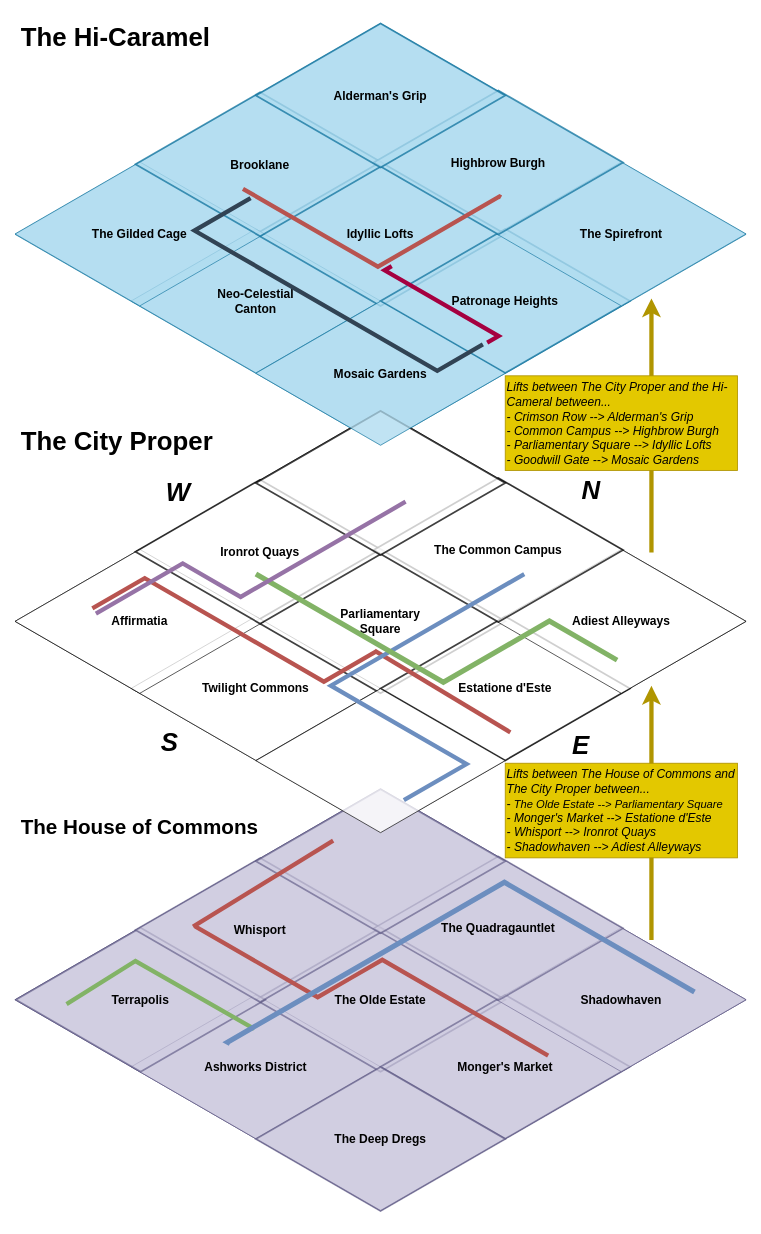
The diagram is 761 pixels wide and 1234 high, and some of its shapes have lost their labels. The shapes that lost their labels are listed below. From the top down, each one's centre as x and y in pixels, then its label:
(380,482): Crimson Row
(380,760): Goodwill Gate
(380,861): Blind Eye Borough
